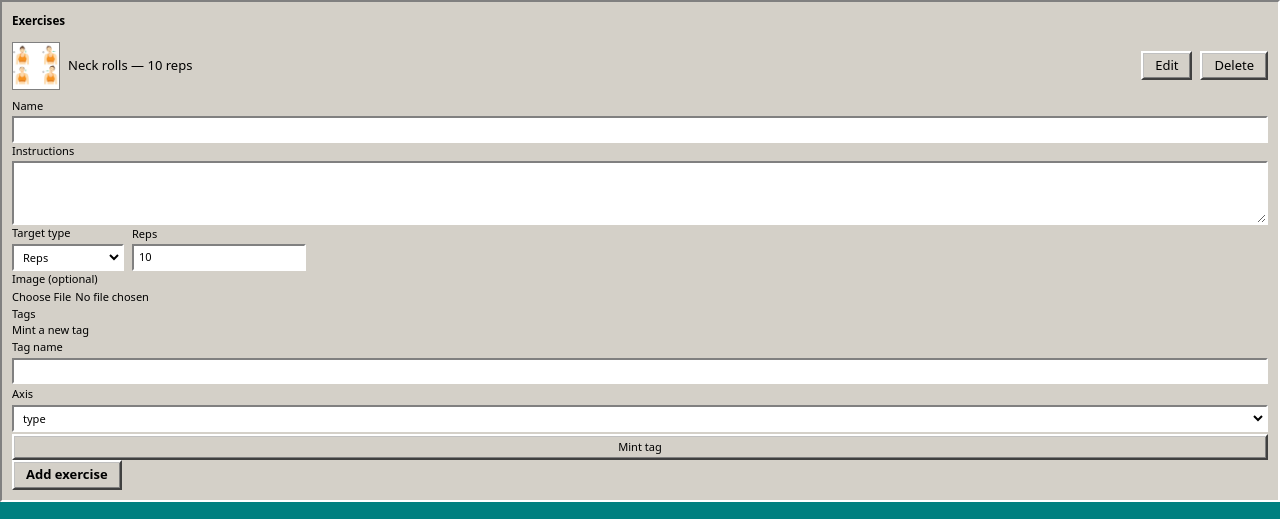
Test: ExerciseCatalog › reverts the submit button to "Add exercise" after Cancel
Click the button "Edit" at (1167, 66), box [1141,51,1192,80]
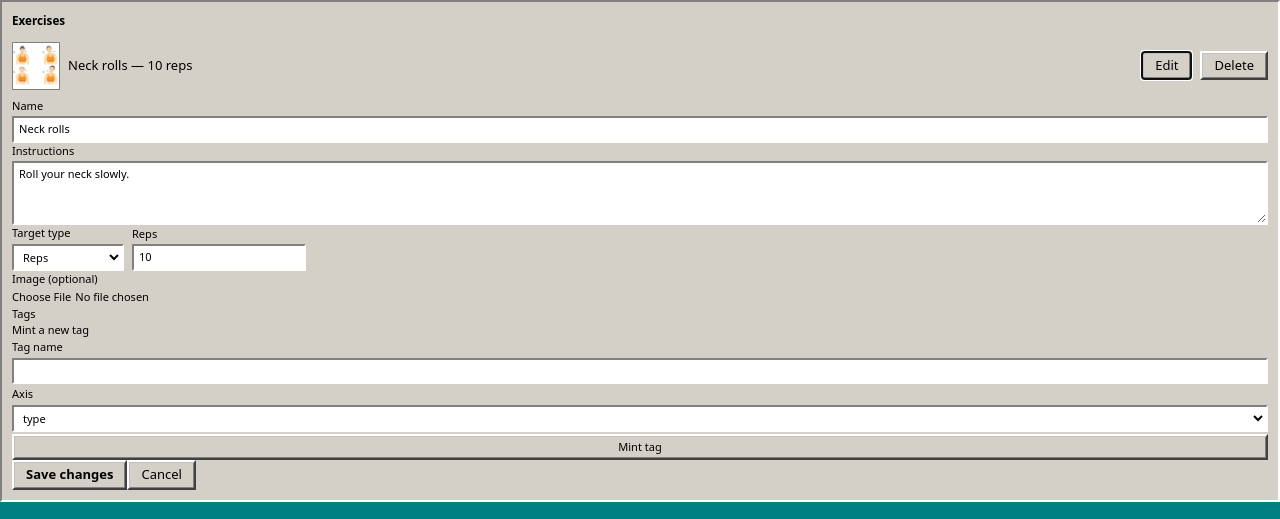
Now the button "Save changes" is shown, box [12,460,128,490]
Click the button "Cancel" at (162, 475), box [128,460,196,490]
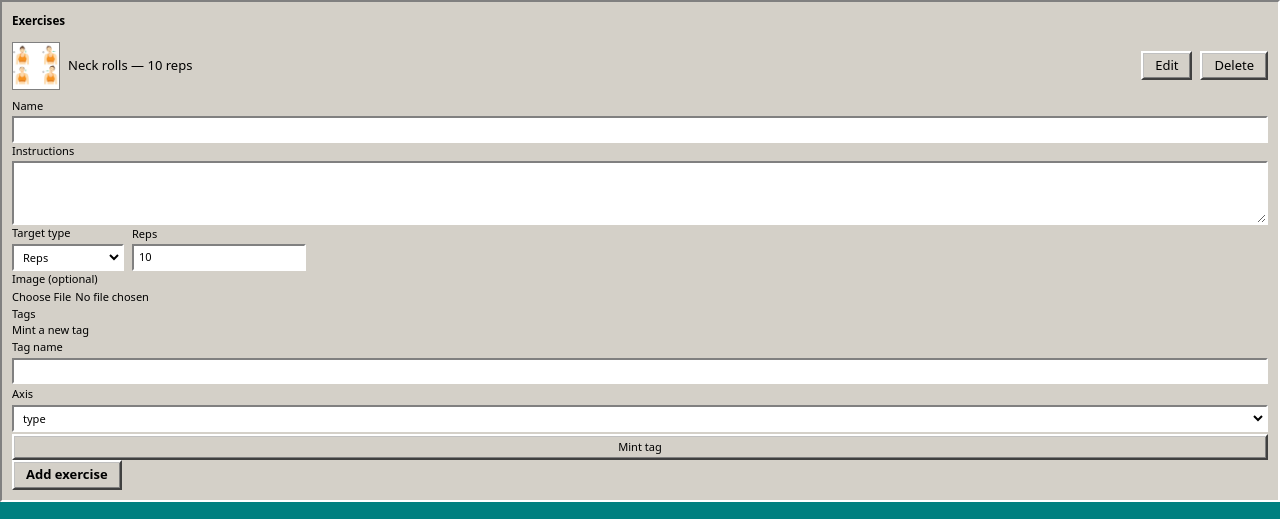
Now the button "Add exercise" is shown, box [12,460,122,490]
